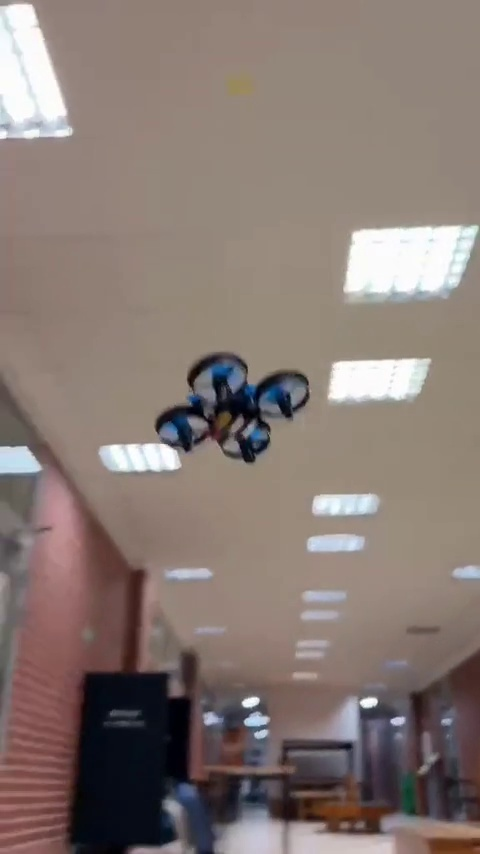drone: (155, 348, 310, 458)
